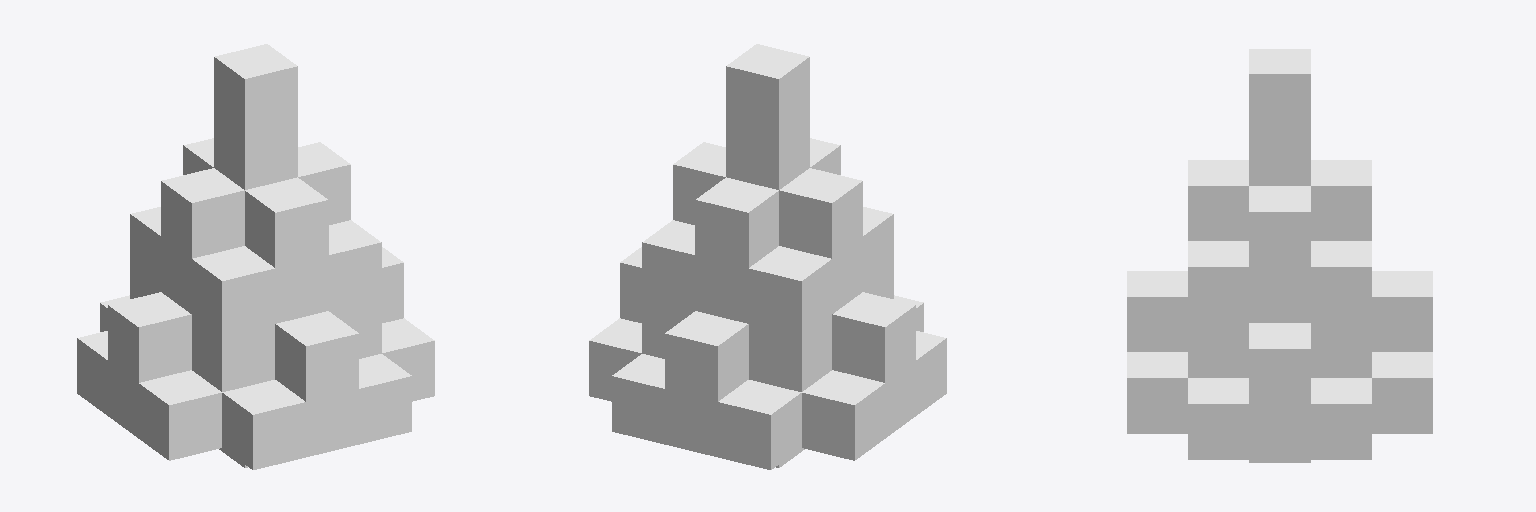
Rendered from Pine_tree.obj.
The picture shows the model from 3 angles: view 1: azimuth 30°, elevation 25°; view 2: azimuth 150°, elevation 25°; view 3: azimuth 270°, elevation 25°; orthographic projection.
Visible parts, largest first — view 1: Pine_tree; view 2: Pine_tree; view 3: Pine_tree.
Part boxes in pixels (x1,y1,x2,y2): Pine_tree: (77,44,434,469); Pine_tree: (589,44,946,469); Pine_tree: (1127,49,1432,462).
Bounding box in the file's own units: 5 × 7 × 5.